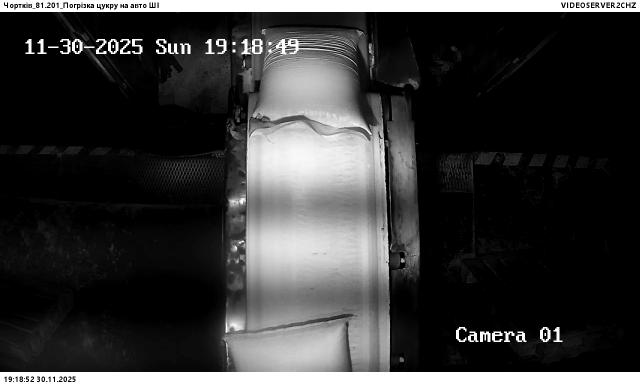bag: (250, 28, 372, 141), (223, 317, 355, 373)
